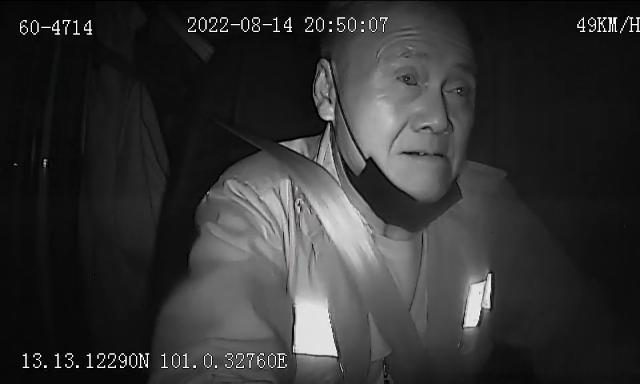SafeDriving: (438, 72, 476, 106), (390, 61, 426, 95)
Seatbelt: (234, 130, 424, 384)
